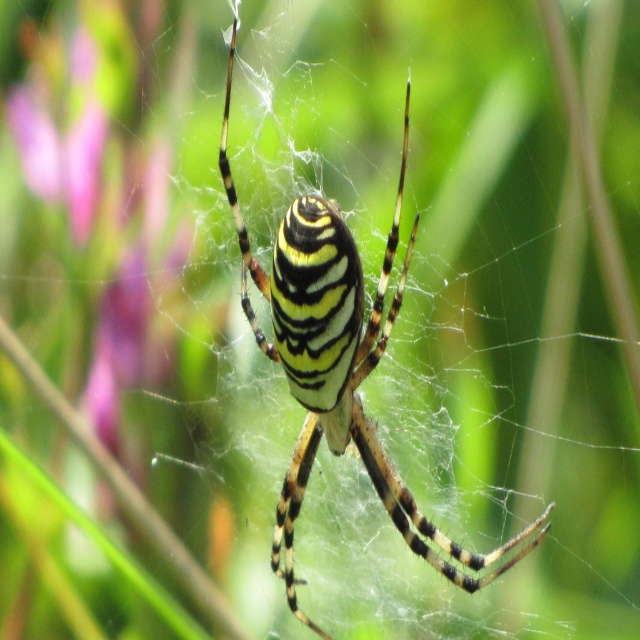Spider: (217, 16, 556, 640)
